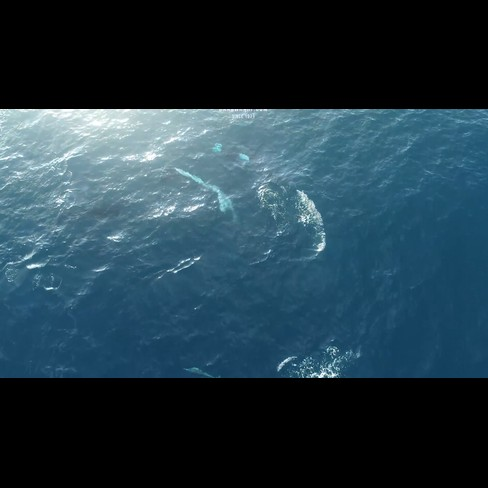orca: (165, 156, 248, 233)
